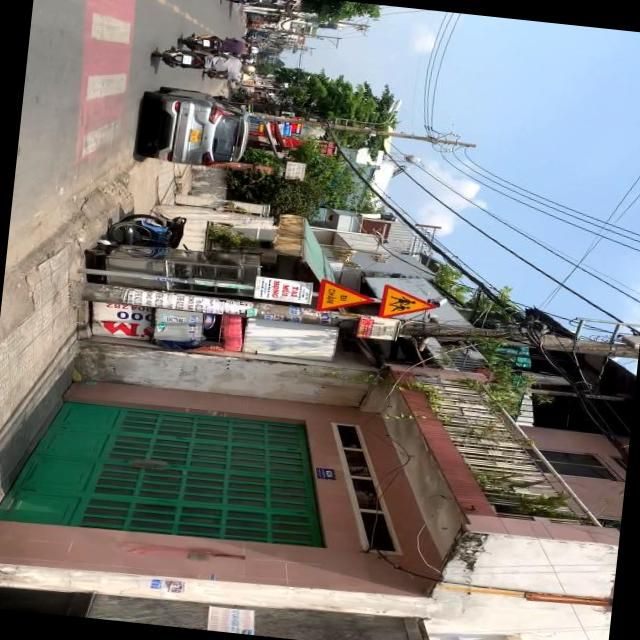W-225: (376, 282, 439, 324)
W-245a: (314, 277, 376, 318)
